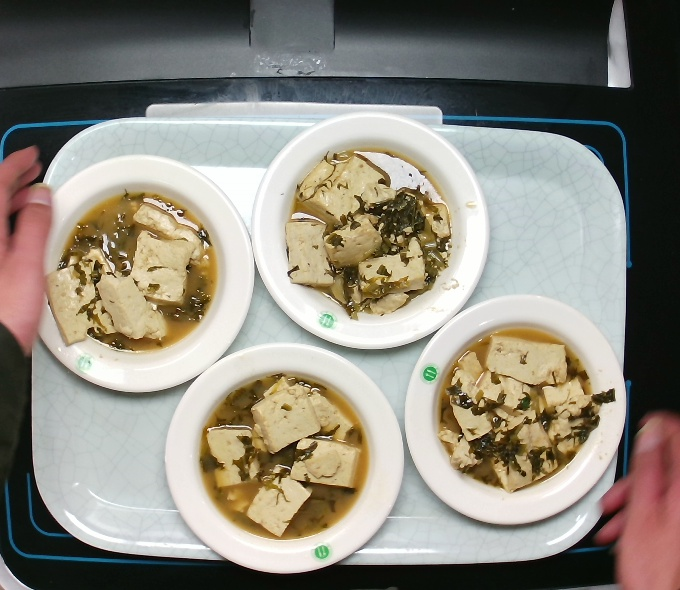wcq-XueCaiDouFu: (199, 371, 371, 541), (285, 145, 453, 315), (56, 187, 219, 352), (436, 327, 593, 490)
